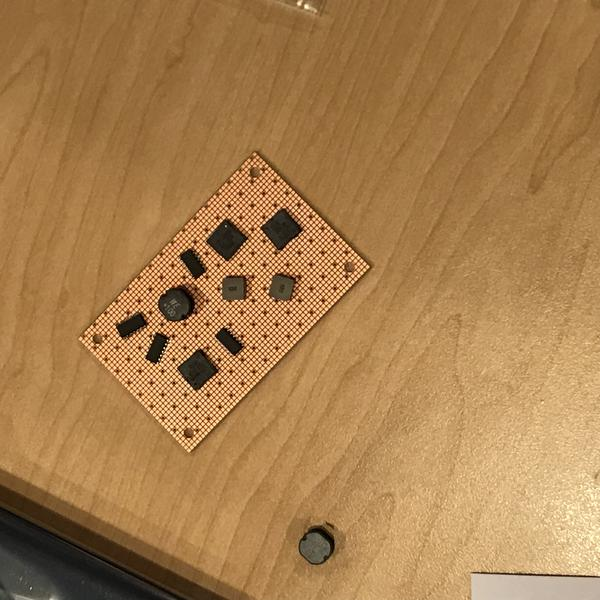board: (76, 151, 372, 456)
